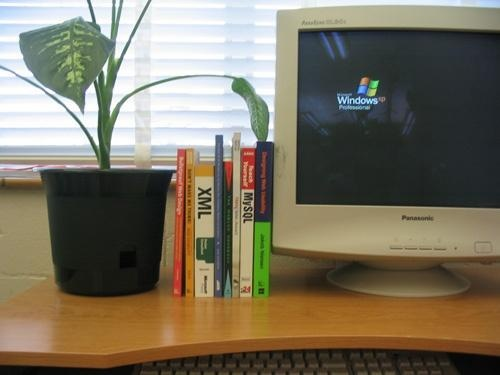pottedplant: (1, 1, 270, 298)
tvmonitor: (272, 5, 500, 298)
